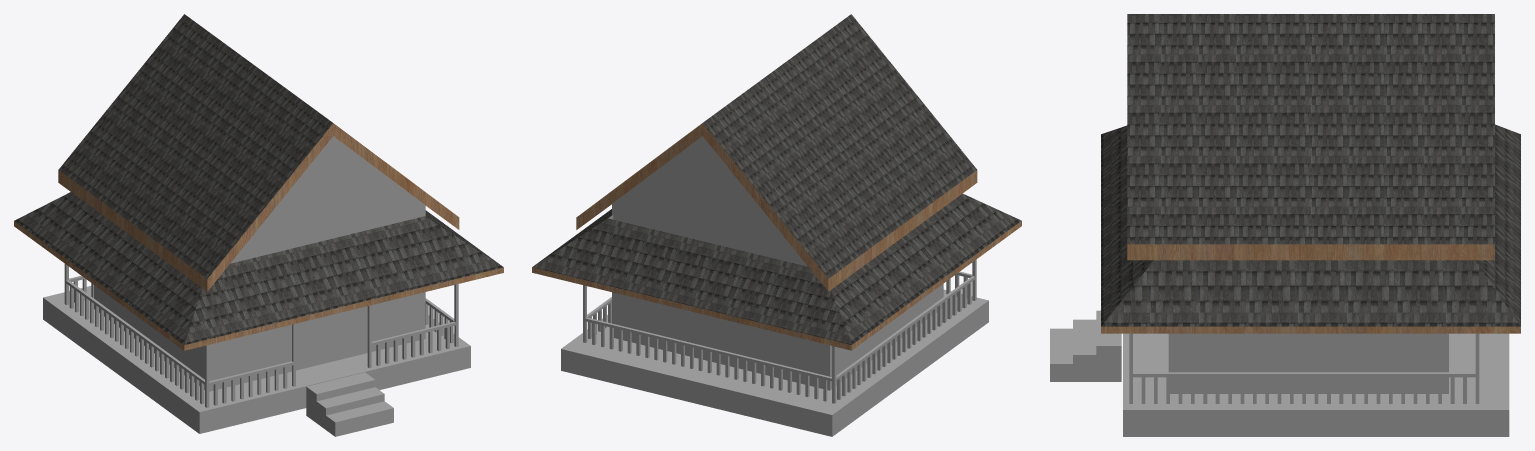
The model's file is HouseExterior_SteepAngled (1).fbx.
3 renders of one model, left to right at view 1: azimuth 30°, elevation 25°; view 2: azimuth 150°, elevation 25°; view 3: azimuth 270°, elevation 25°, orthographic. The views are drawn at different scales.
Visible parts, largest first — view 1: TopRoof, BottomRoof, Base1, FrontWall, FrontSupport, Stairs1, TopWall, LeftWall, RightSupport; view 2: TopRoof, BottomRoof, Base1, BackSupport, BackWall, TopWall, LeftWall, RightSupport; view 3: TopRoof, BottomRoof, Base1, RightWall, Stairs1.
Boxes of the visible parts, x1=… form: TopRoof: x1=58, y1=14, x2=459, y2=291; BottomRoof: x1=14, y1=192, x2=503, y2=350; Base1: x1=43, y1=286, x2=470, y2=433; FrontWall: x1=218, y1=294, x2=414, y2=389; FrontSupport: x1=242, y1=137, x2=414, y2=248; Stairs1: x1=306, y1=372, x2=393, y2=436; TopWall: x1=230, y1=204, x2=425, y2=263; LeftWall: x1=94, y1=285, x2=218, y2=391; RightSupport: x1=333, y1=136, x2=423, y2=206; TopRoof: x1=576, y1=14, x2=977, y2=291; BottomRoof: x1=532, y1=193, x2=1021, y2=350; Base1: x1=561, y1=289, x2=988, y2=436; BackSupport: x1=623, y1=137, x2=791, y2=246; BackWall: x1=622, y1=295, x2=819, y2=387; TopWall: x1=612, y1=203, x2=807, y2=266; LeftWall: x1=819, y1=284, x2=943, y2=390; RightSupport: x1=613, y1=136, x2=702, y2=205; TopRoof: x1=1127, y1=14, x2=1494, y2=260; BottomRoof: x1=1101, y1=124, x2=1520, y2=333; Base1: x1=1123, y1=333, x2=1509, y2=436; RightWall: x1=1168, y1=333, x2=1448, y2=393; Stairs1: x1=1050, y1=310, x2=1121, y2=381.
Bounding box in the file's own units: 8.16 × 6.92 × 8.43.
